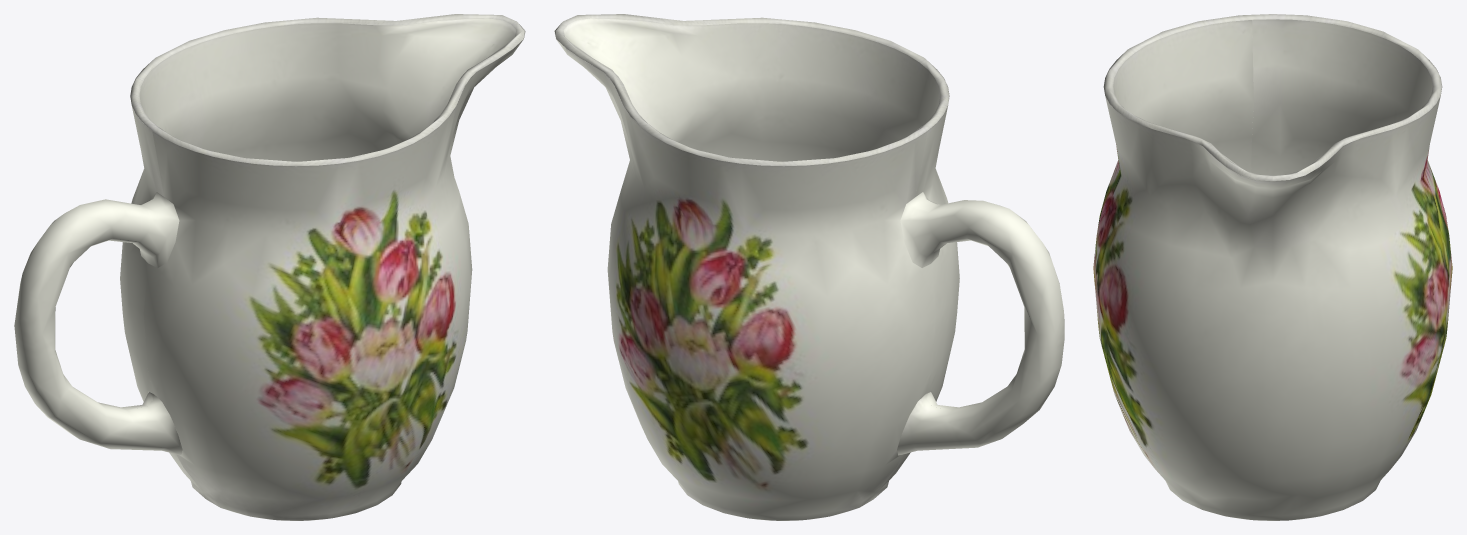
File: jug.glb
The picture shows the model from 3 angles, left to right: view 1: azimuth 30°, elevation 25°; view 2: azimuth 150°, elevation 25°; view 3: azimuth 270°, elevation 25°; orthographic projection. The views are drawn at different scales.
Parts seen in each view (by area): view 1: jug_01; view 2: jug_01; view 3: jug_01.
Part boxes in pixels (x1,y1,x2,y2): jug_01: [14, 14, 525, 520]; jug_01: [554, 14, 1064, 520]; jug_01: [1093, 14, 1452, 520].
Bounding box in the file's own units: 0.2755 × 0.2114 × 0.1679.
Materials: 1 (1 with a texture image).
